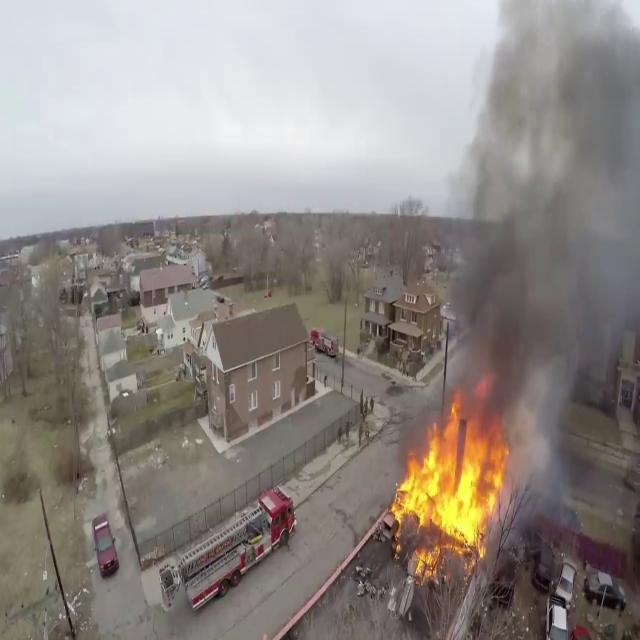Fire: (381, 395, 516, 577)
Smoke: (434, 0, 640, 432)
